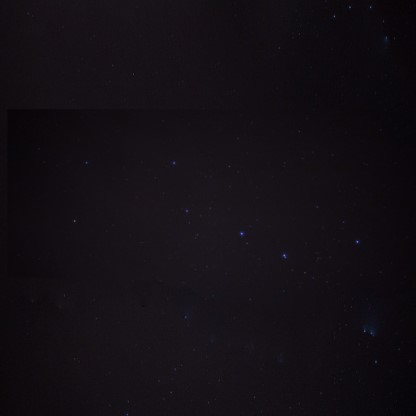Ursa Major: (61, 205, 88, 233), (173, 199, 199, 224), (77, 151, 101, 178), (268, 239, 293, 262), (162, 152, 187, 174), (347, 230, 370, 252), (229, 222, 249, 244)
